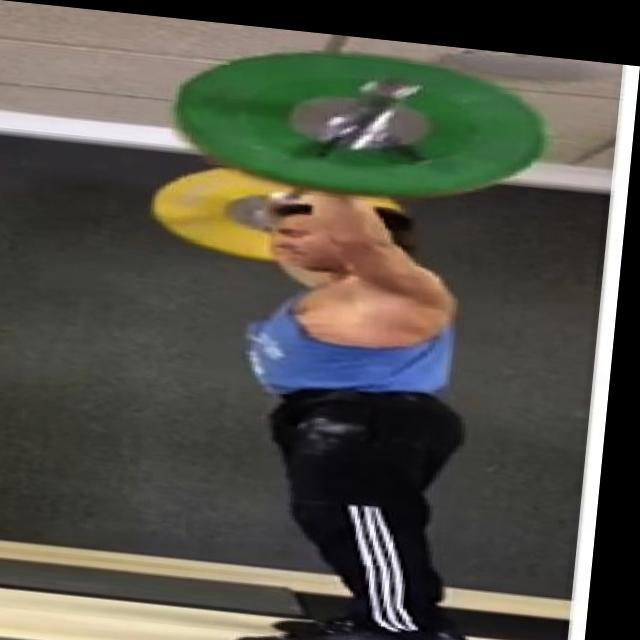barbell: (163, 33, 561, 209)
